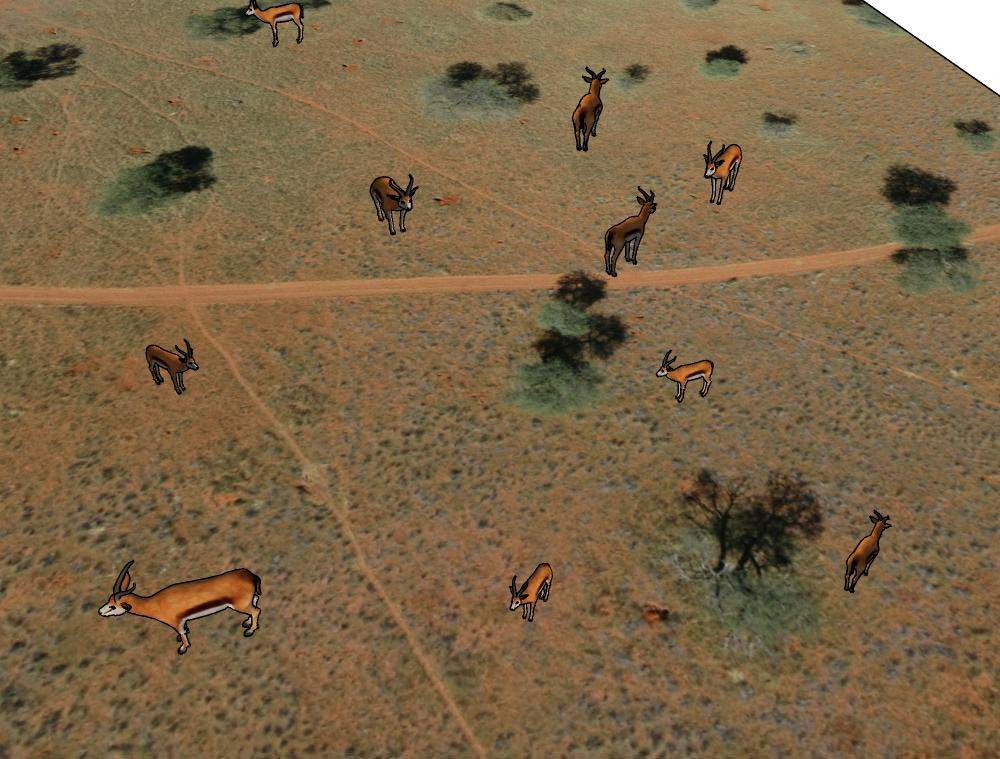springbok: (98, 557, 266, 656), (599, 184, 656, 278), (837, 509, 894, 594), (564, 64, 612, 156), (366, 171, 421, 236), (655, 349, 716, 407), (504, 561, 557, 626), (143, 338, 201, 397), (701, 134, 744, 209), (244, 1, 311, 48)
